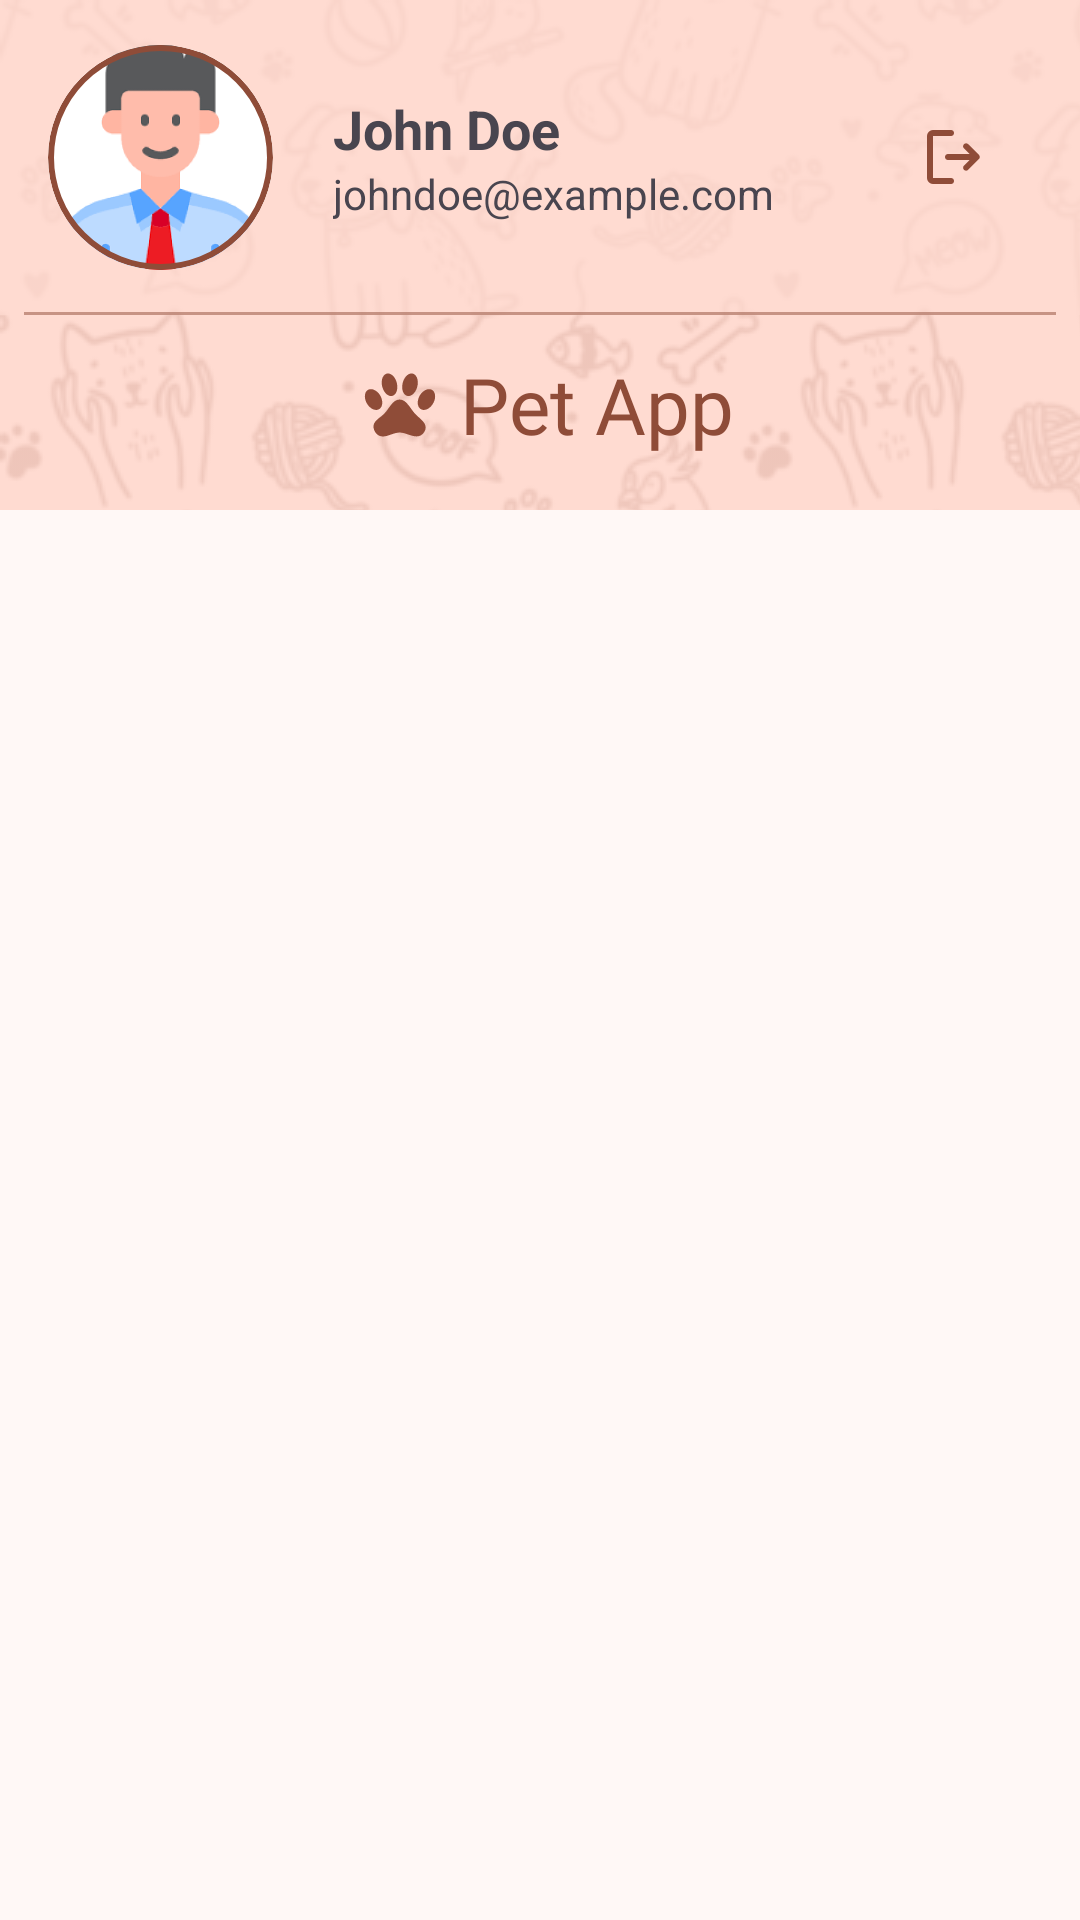

Icons on this 1080x1920 Android screen, each with its box as {"x1": x1, "y1": y1, "x2": x2, "y2": y2}:
Profile Image: {"x1": 48, "y1": 45, "x2": 273, "y2": 270}
sign out: {"x1": 927, "y1": 130, "x2": 980, "y2": 184}
